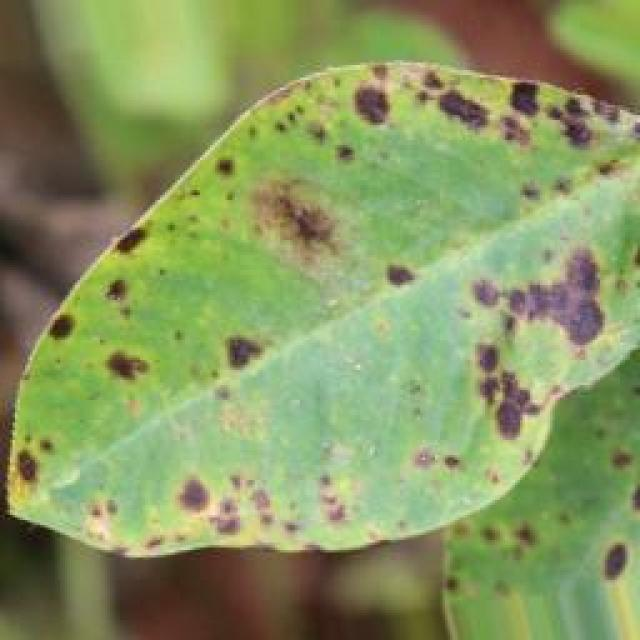Yellowish: (0, 55, 640, 616)
